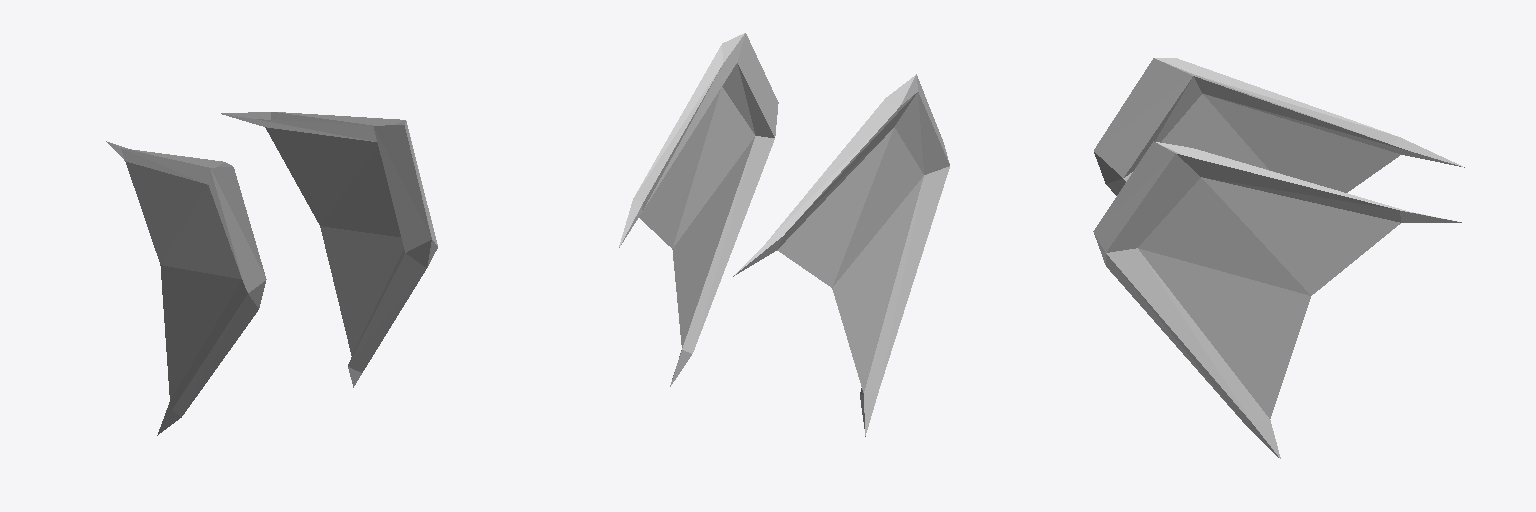
Rendered from wing02.obj.
3 renders of one model, left to right at view 1: azimuth 30°, elevation 25°; view 2: azimuth 150°, elevation 25°; view 3: azimuth 270°, elevation 25°, orthographic.
Parts seen in each view (by area): view 1: wing2 wing2_matWing, wing2_matMain wing2; view 2: wing2 wing2_matWing, wing2_matMain wing2; view 3: wing2 wing2_matWing, wing2_matMain wing2.
Part boxes in pixels (x1,y1,x2,y2): wing2 wing2_matWing: (125, 127, 403, 399); wing2_matMain wing2: (106, 112, 437, 435); wing2 wing2_matWing: (639, 87, 923, 392); wing2_matMain wing2: (619, 33, 949, 436); wing2 wing2_matWing: (1138, 94, 1400, 418); wing2_matMain wing2: (1093, 58, 1464, 458).
Bounding box in the file's own units: 0.7122 × 1.08 × 1.17.